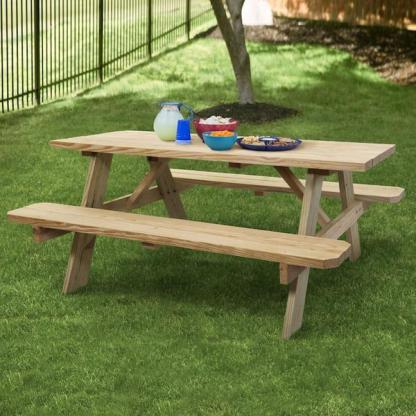table: (6, 125, 410, 344)
